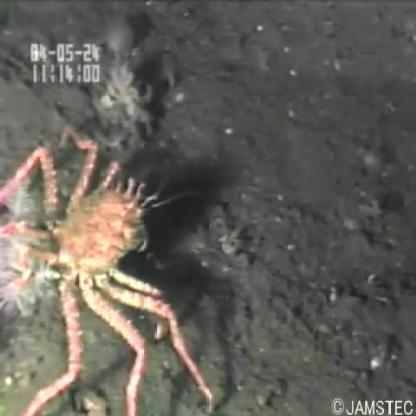Bio: (1, 117, 218, 415)
